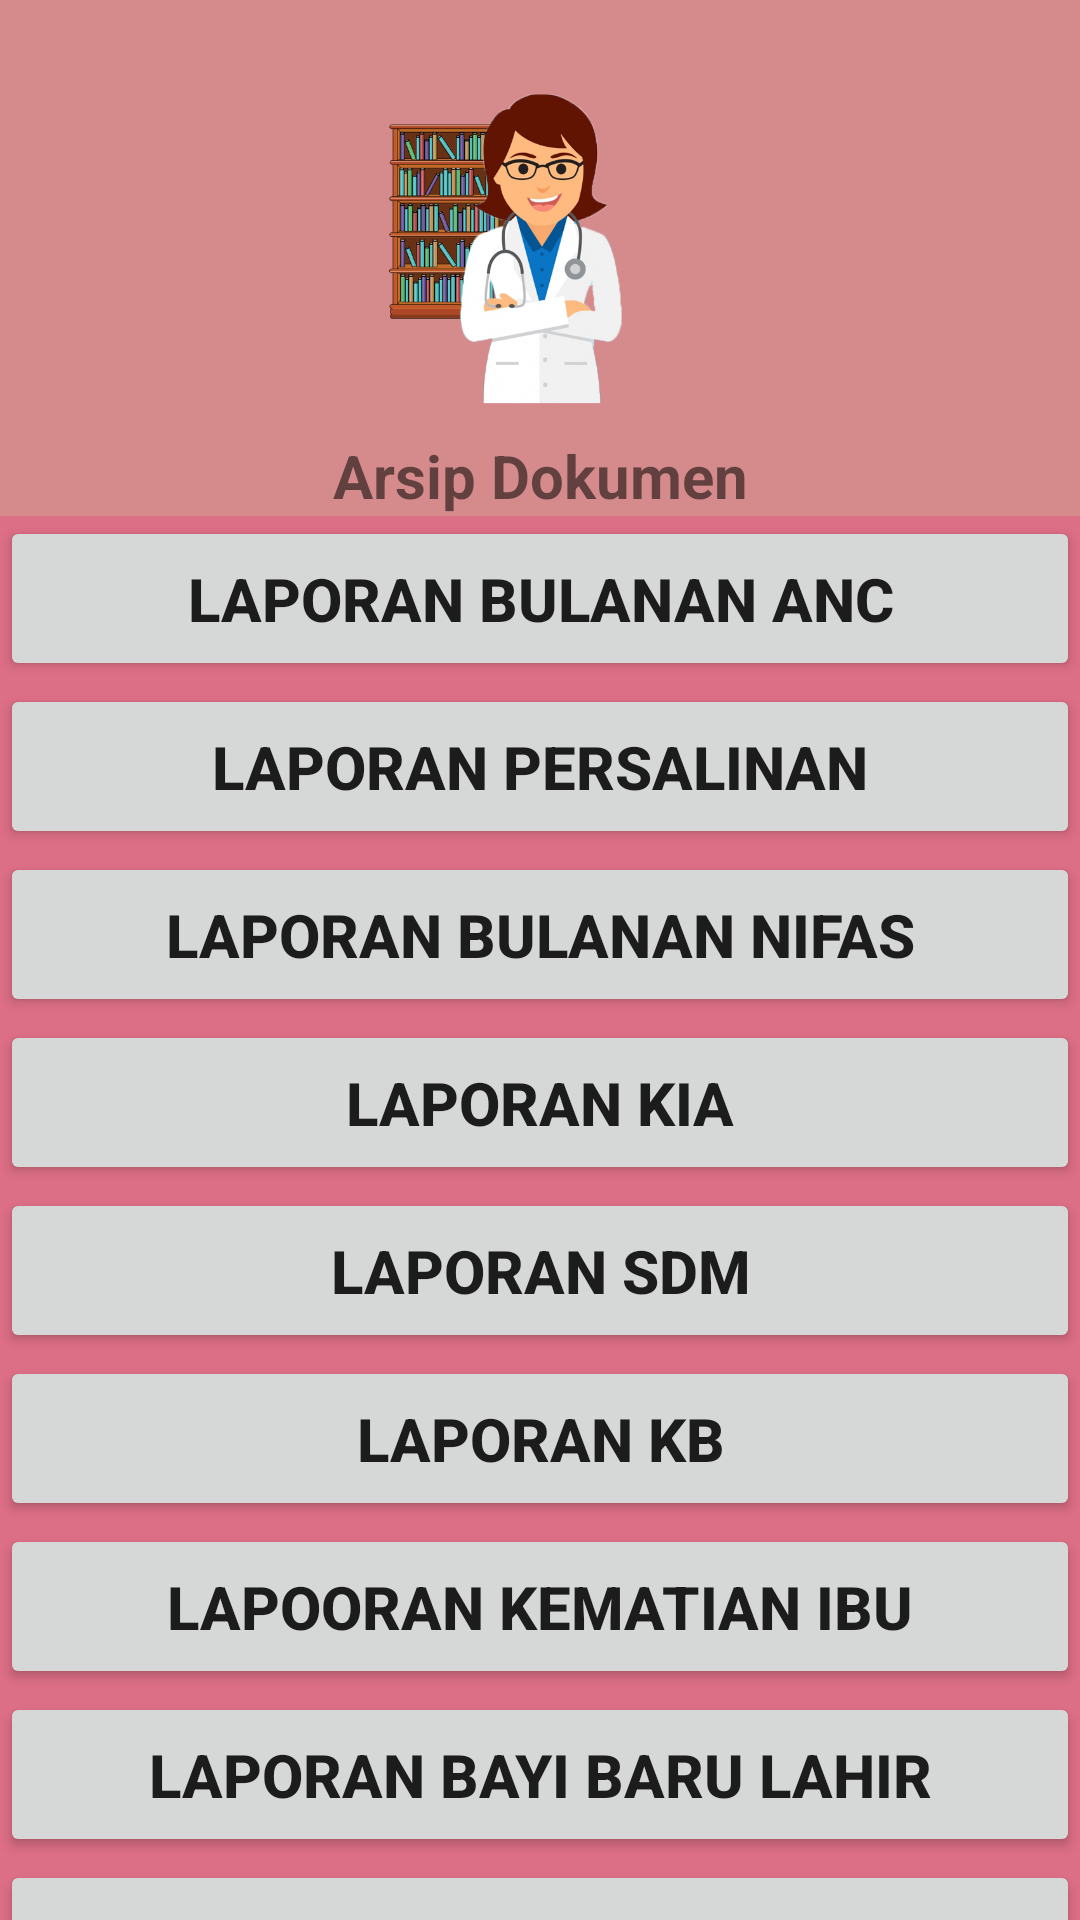

Where to tap for icons on this 1080×1920 app screen, as point (x, y):
budok: point (505, 248)
